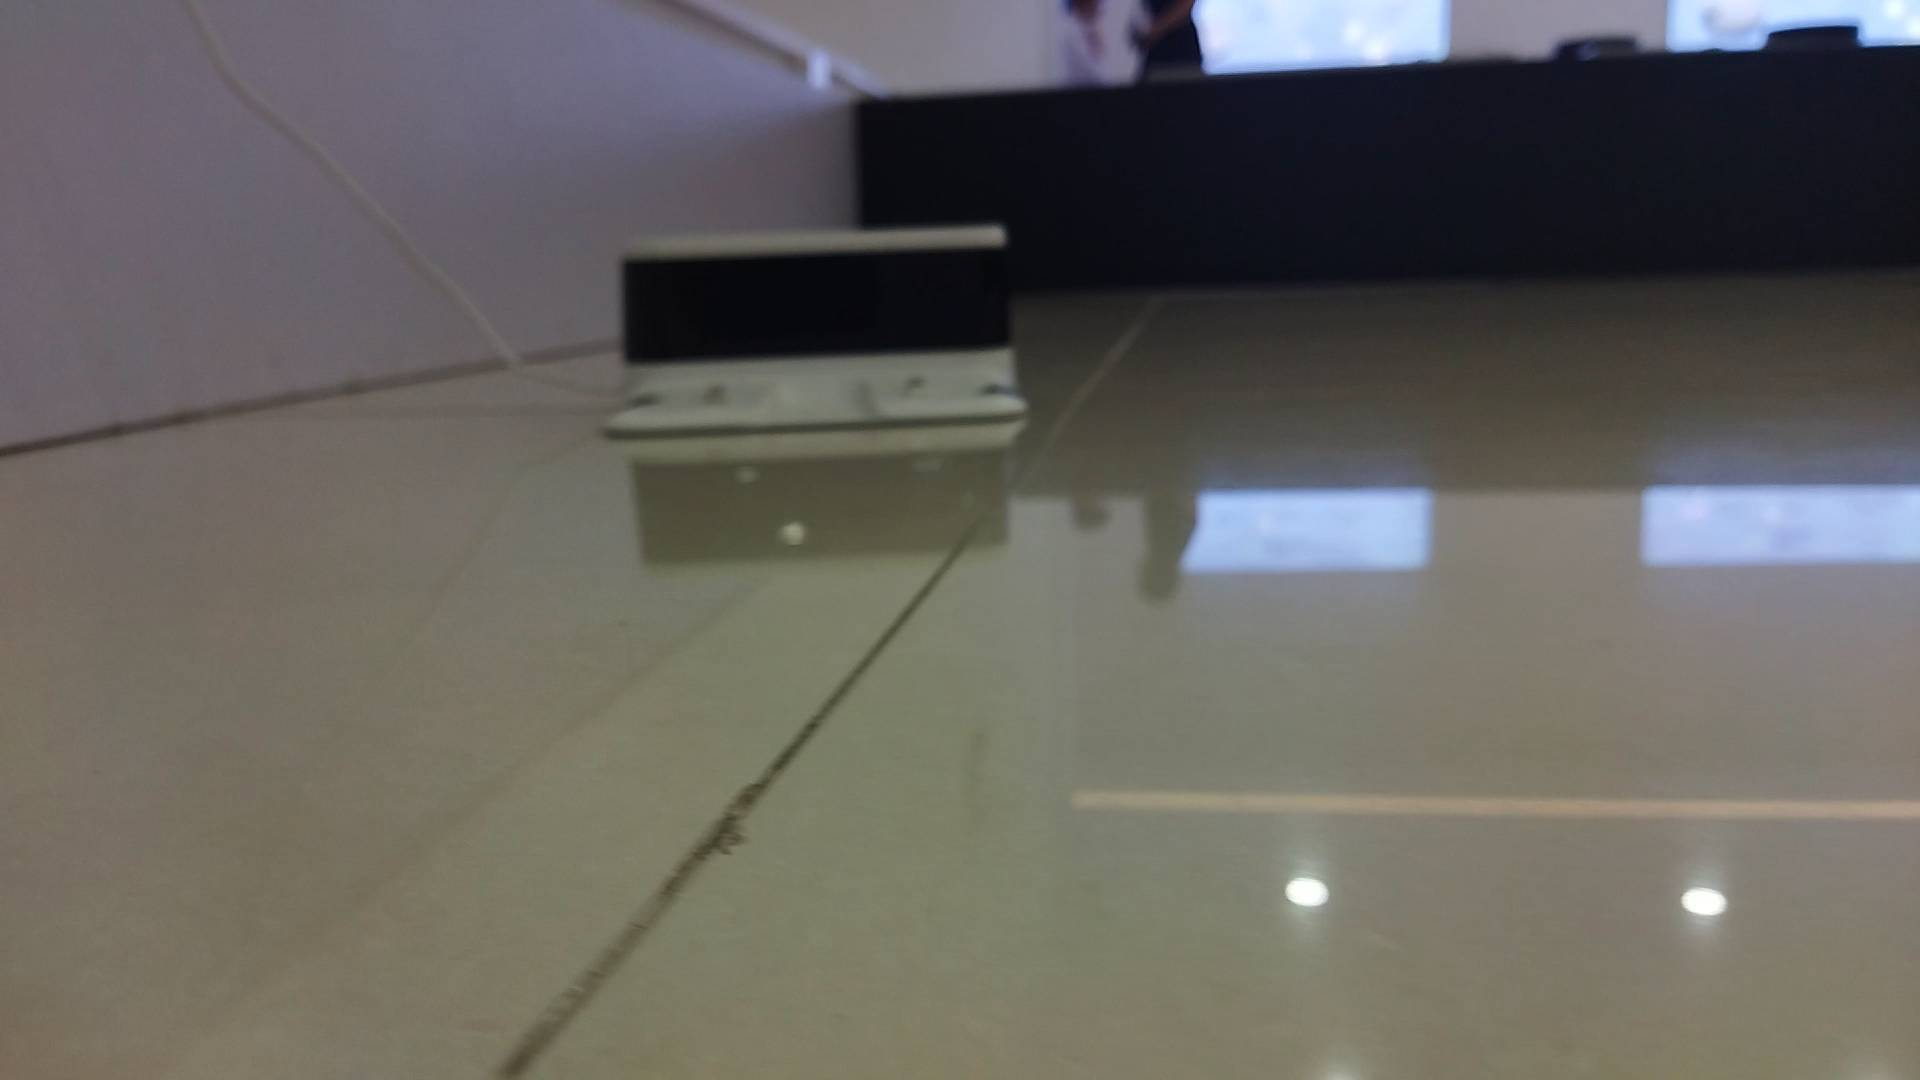recharge seat: (604, 218, 1029, 431)
